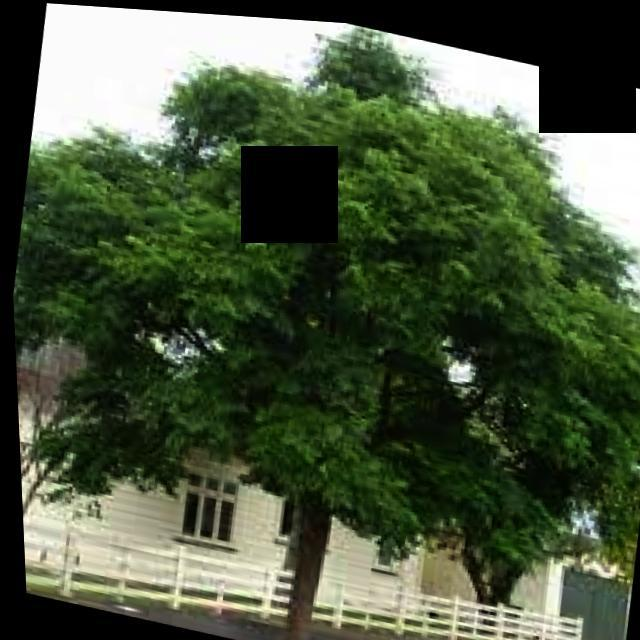Tree: (1, 1, 640, 640), (5, 111, 200, 597)
